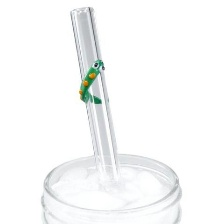drinking_straw: (65, 2, 123, 193)
glass: (33, 146, 190, 224)
